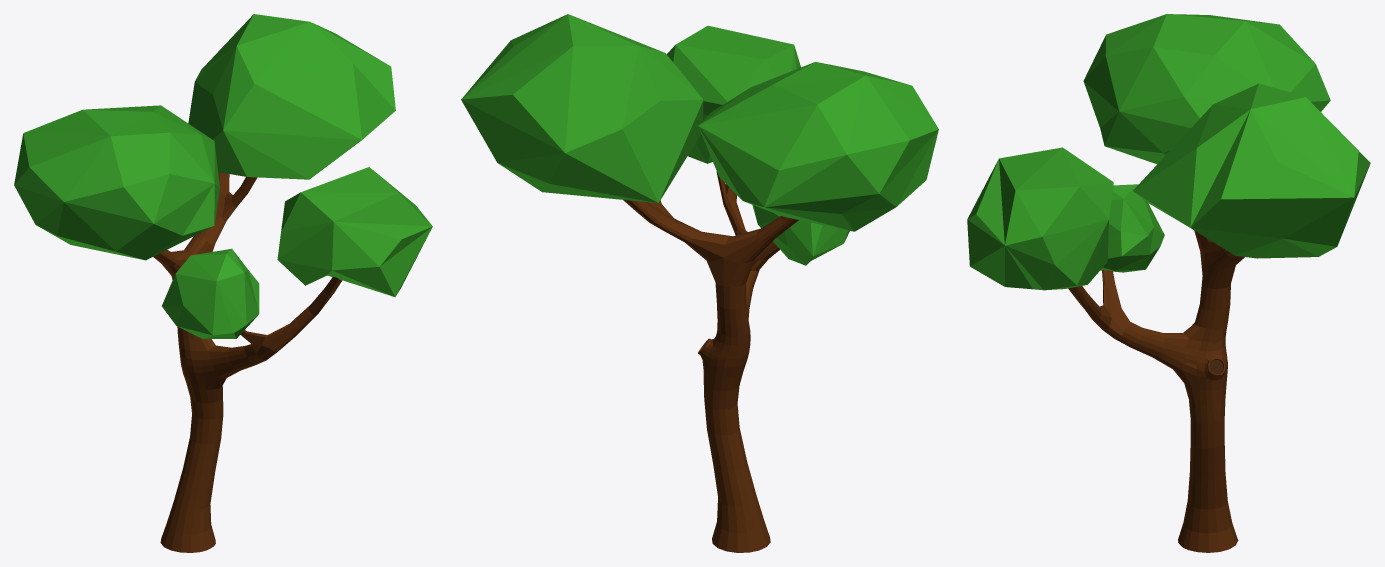
The model's file is baum_midpoly_a01.fbx.
3 views of the same model, side by side, from view 1: azimuth 30°, elevation 25°; view 2: azimuth 150°, elevation 25°; view 3: azimuth 270°, elevation 25° (orthographic). The views are drawn at different scales.
Parts seen in each view (by area): view 1: midpoly tree; view 2: midpoly tree; view 3: midpoly tree.
Part boxes in pixels (x1,y1,x2,y2): midpoly tree: (14, 14, 432, 552); midpoly tree: (461, 14, 938, 552); midpoly tree: (967, 14, 1370, 552).
Bounding box in the file's own units: 2503 × 3067 × 2219.
